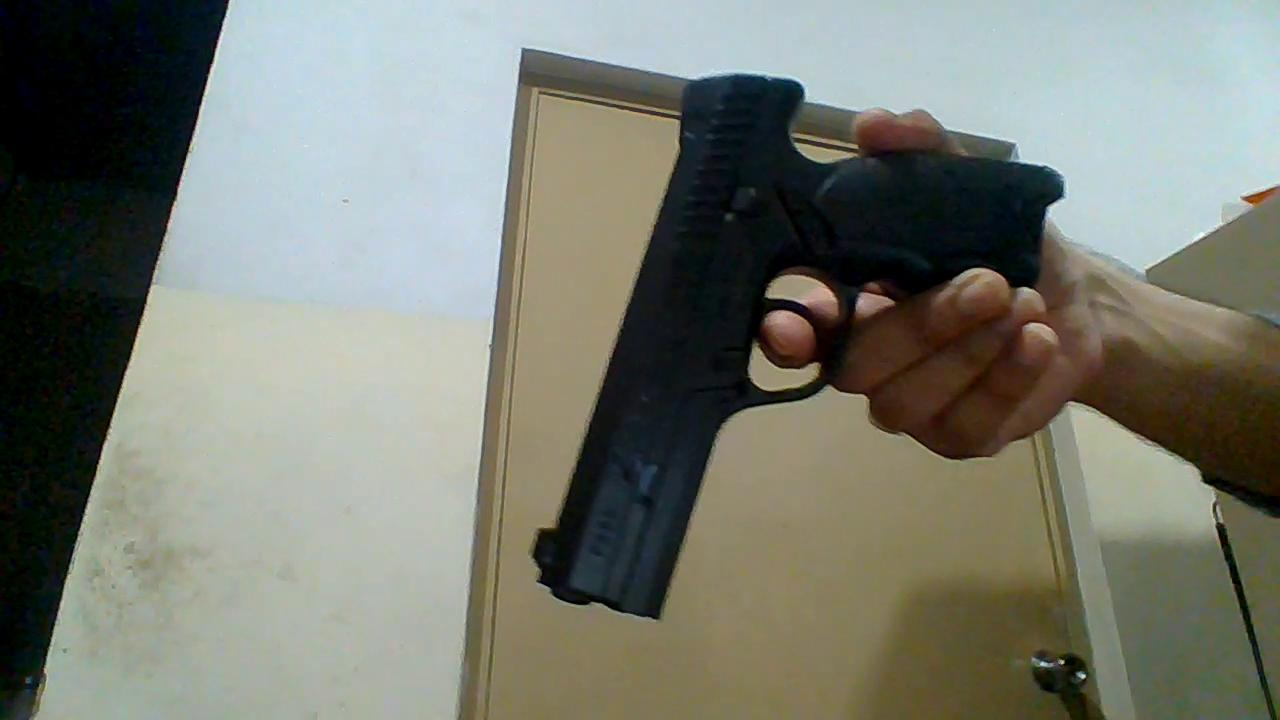weapon: (528, 72, 1069, 624)
